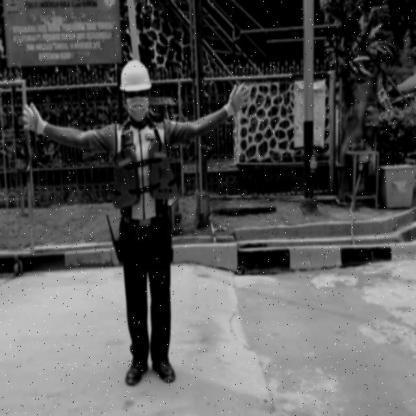boots: (124, 349, 149, 387), (150, 350, 176, 386)
gloves: (222, 80, 254, 125), (20, 99, 48, 142)
helmet: (120, 58, 152, 92)
mask: (125, 100, 150, 124)
vest: (110, 138, 179, 215)
